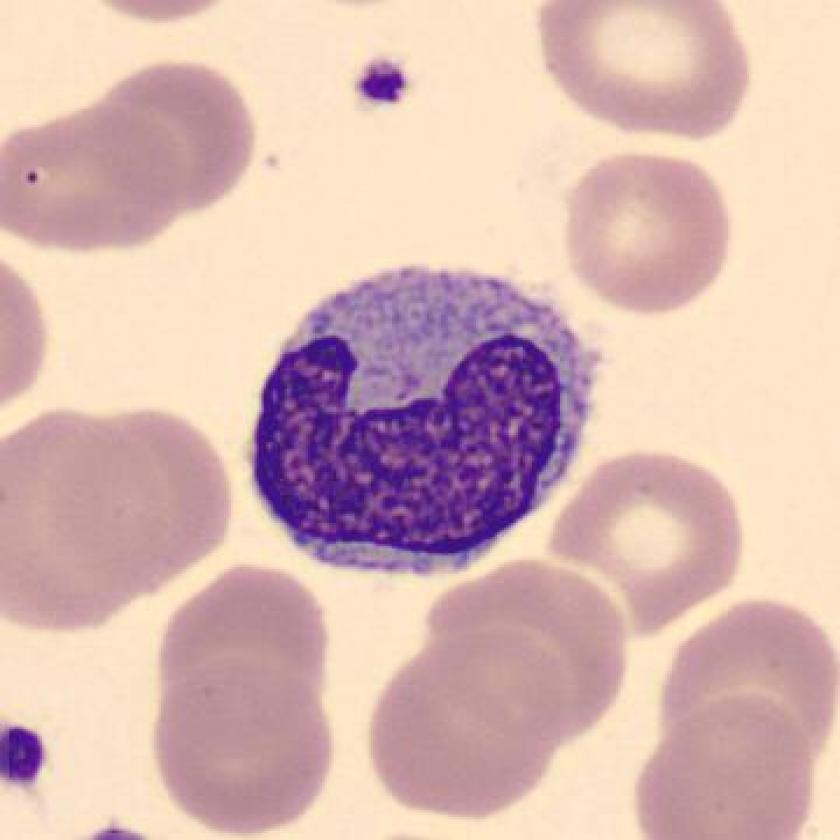monocyte: (223, 230, 624, 600)
